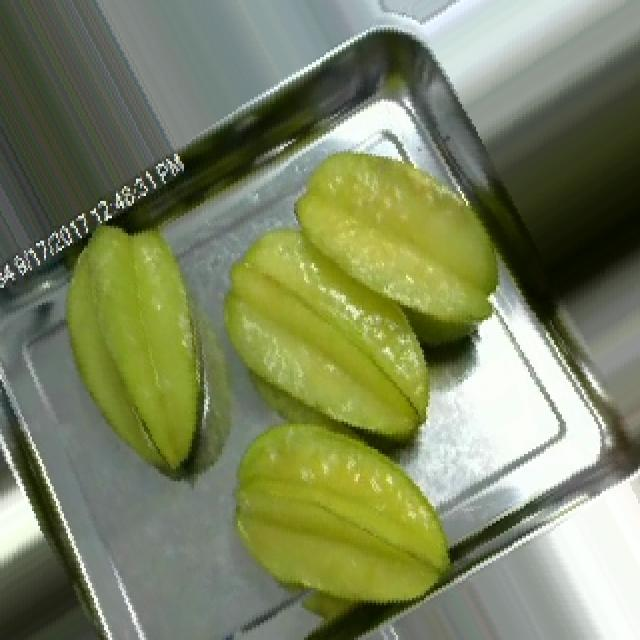fruit: (246, 109, 540, 457), (184, 379, 480, 640), (30, 199, 264, 501)
